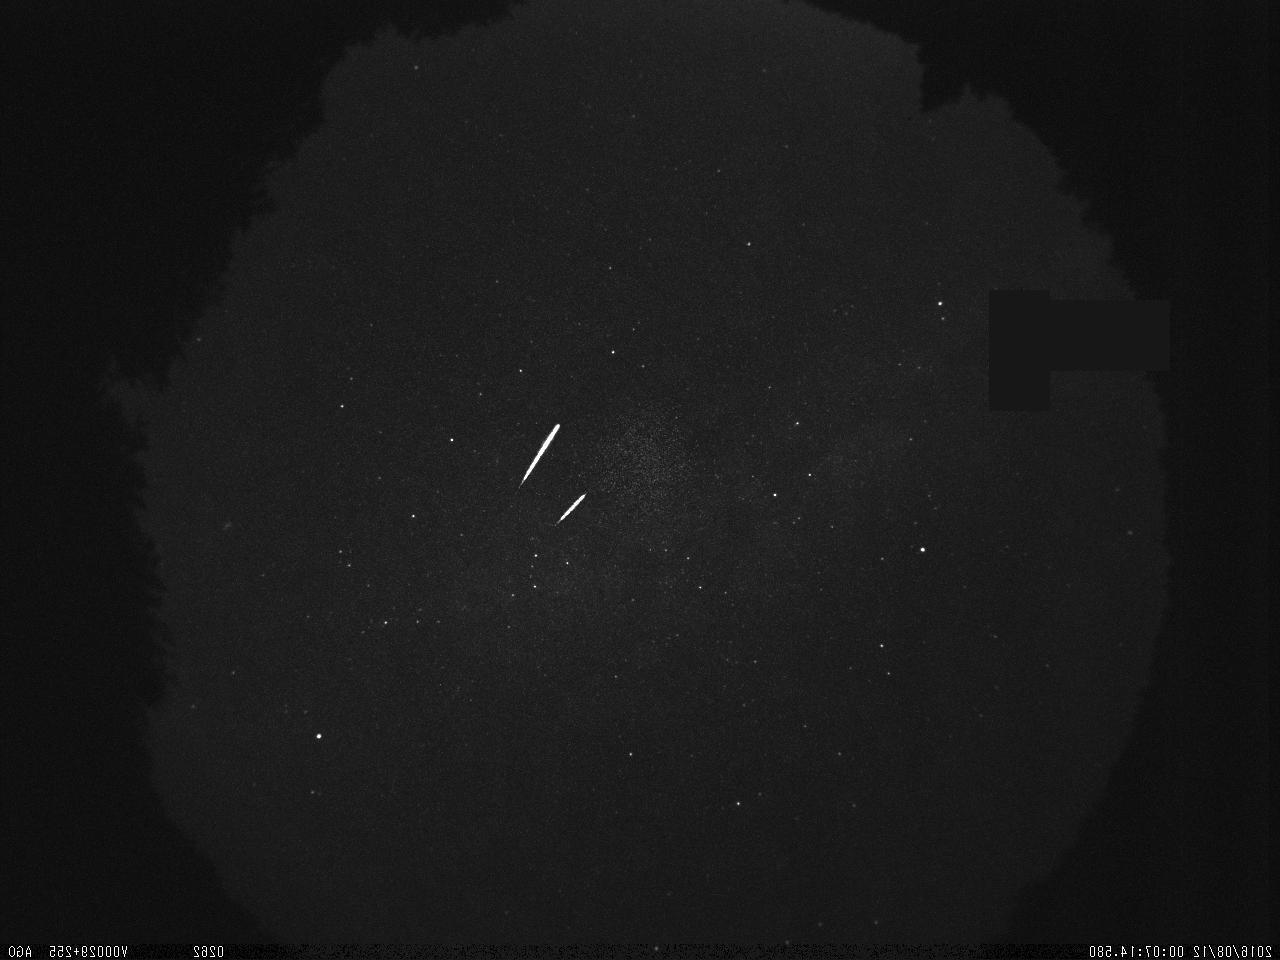meteor: (506, 421, 561, 493), (549, 490, 588, 531)
